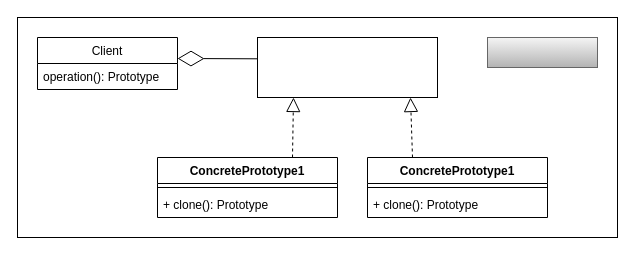
Some shapes in this 635 by 255 pixel diagram are drawn without their labels. The centre of each missing label's shape, as x and y in pixels:
<<Interface>> Prototype + clone(): Prototype: the point at 347,67
Protoype: the point at 542,52
